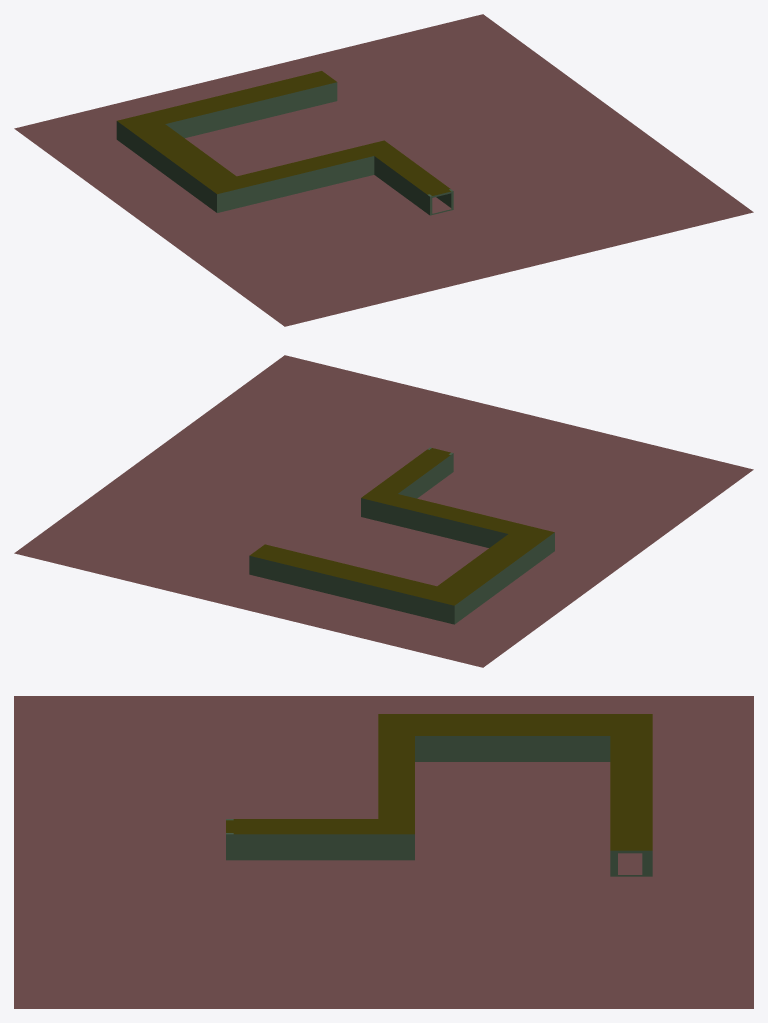
The model's file is hotel.fbx.
The picture shows the model from 3 angles, top to bottom: view 1: azimuth 30°, elevation 25°; view 2: azimuth 150°, elevation 25°; view 3: azimuth 270°, elevation 25°; orthographic projection. The views are drawn at different scales.
Visible parts, largest first — view 1: pPlane1, pCube1; view 2: pPlane1, pCube1; view 3: pPlane1, pCube1.
Boxes of the visible parts, left/top/right/bottom form: pPlane1: left=14, top=14, right=753, bottom=326; pCube1: left=116, top=71, right=453, bottom=215; pPlane1: left=14, top=355, right=753, bottom=667; pCube1: left=249, top=447, right=554, bottom=624; pPlane1: left=14, top=696, right=753, bottom=1008; pCube1: left=226, top=714, right=652, bottom=876.
Size of the model in its own units: 100 by 4.55 by 100.
